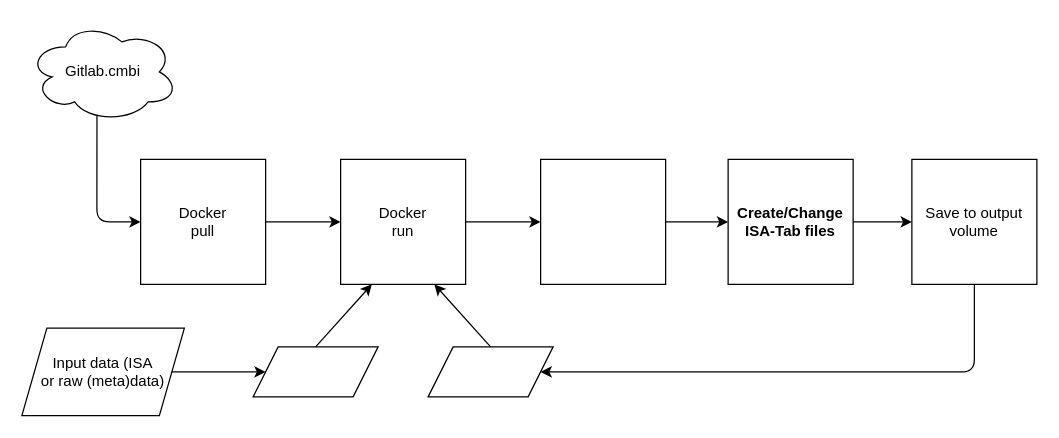
Image size: 1059x438. Some labels were removed from this diagram. The shapes that lost their labels are listed below. From the top down, each one's centre as x and y in pixels, then its label:
the point at 602,221: Open browser: localhost:8888
the point at 315,371: Input dir
the point at 490,371: Output dir
